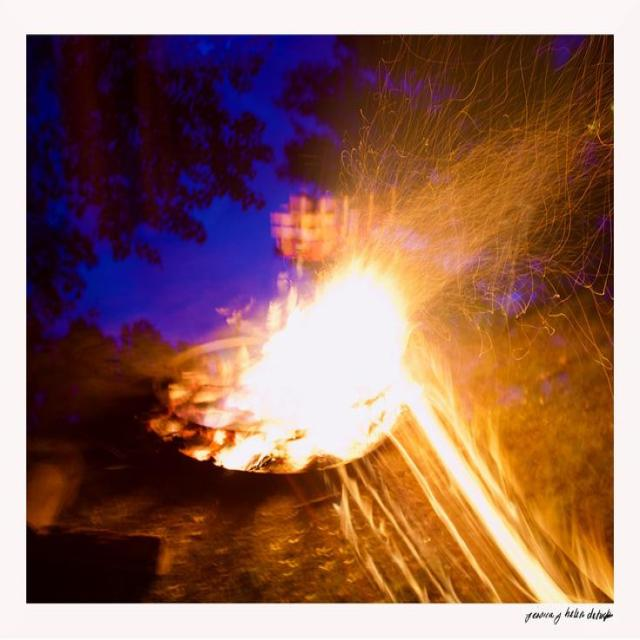fire: (206, 35, 613, 604)
